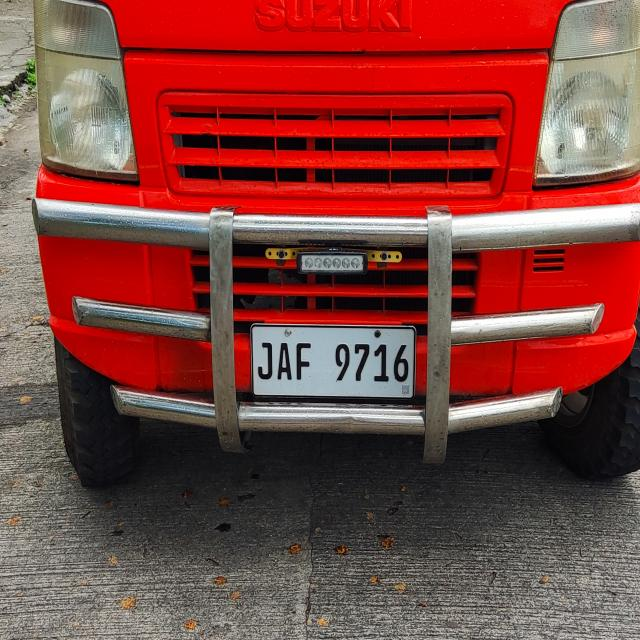plate: (249, 322, 416, 401)
